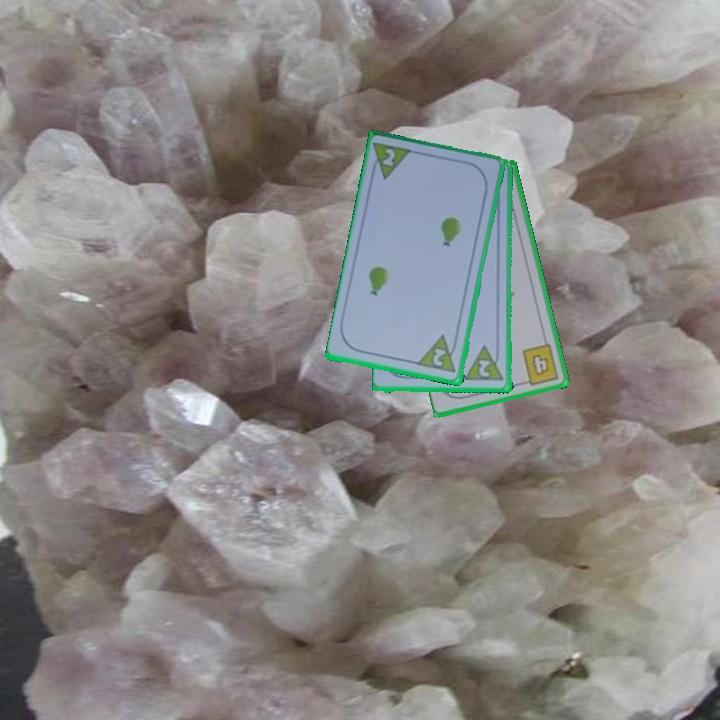2p: (416, 332, 461, 376), (475, 356, 494, 380), (379, 145, 398, 169)
4b: (519, 340, 562, 388)
